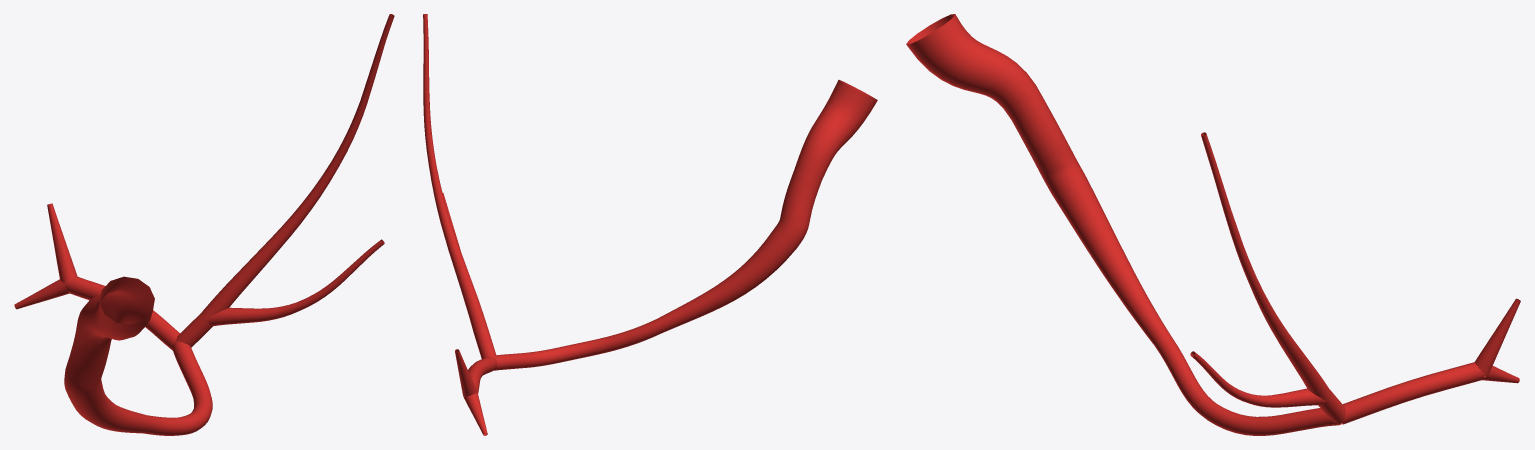
The model's file is circulatorio-superior-gluteal-veins-l.glb.
The picture shows the model from 3 angles, left to right: view 1: azimuth 30°, elevation 25°; view 2: azimuth 150°, elevation 25°; view 3: azimuth 270°, elevation 25°; orthographic projection. The views are drawn at different scales.
Visible parts, largest first — view 1: Superior gluteal veins.l; view 2: Superior gluteal veins.l; view 3: Superior gluteal veins.l.
Boxes of the visible parts, x1,y1,x2,y2 form: Superior gluteal veins.l: [14, 14, 394, 435]; Superior gluteal veins.l: [423, 14, 877, 435]; Superior gluteal veins.l: [906, 14, 1520, 435].
Size of the model in its own units: 0.0523 by 0.0442 by 0.0637.
